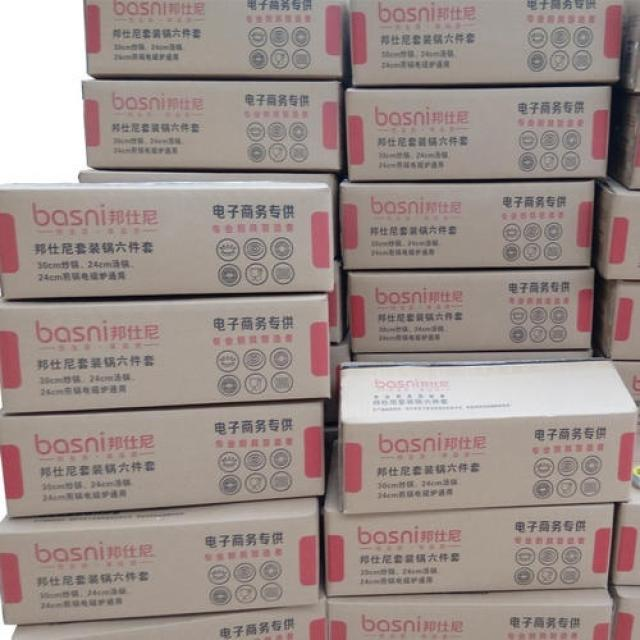box: (337, 359, 639, 516), (323, 442, 614, 597), (0, 499, 319, 623), (2, 181, 333, 300), (1, 294, 328, 414), (0, 403, 325, 517), (78, 167, 340, 260), (345, 88, 609, 180), (81, 81, 341, 171), (346, 1, 625, 84), (342, 181, 596, 271), (345, 271, 594, 353), (82, 1, 342, 76), (11, 593, 330, 639), (329, 589, 614, 639), (595, 172, 639, 283), (591, 273, 639, 362), (606, 81, 639, 192), (350, 350, 593, 363), (609, 485, 639, 582), (616, 3, 638, 91), (612, 584, 639, 639), (612, 363, 639, 412)
